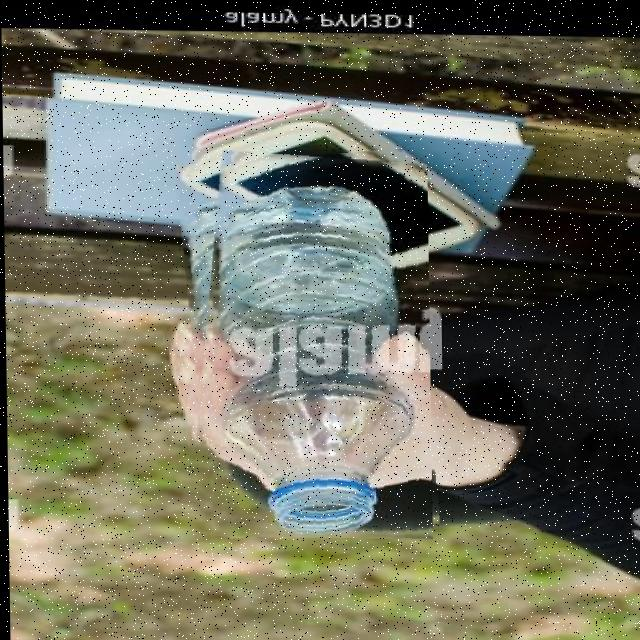litter: (181, 148, 430, 537)
